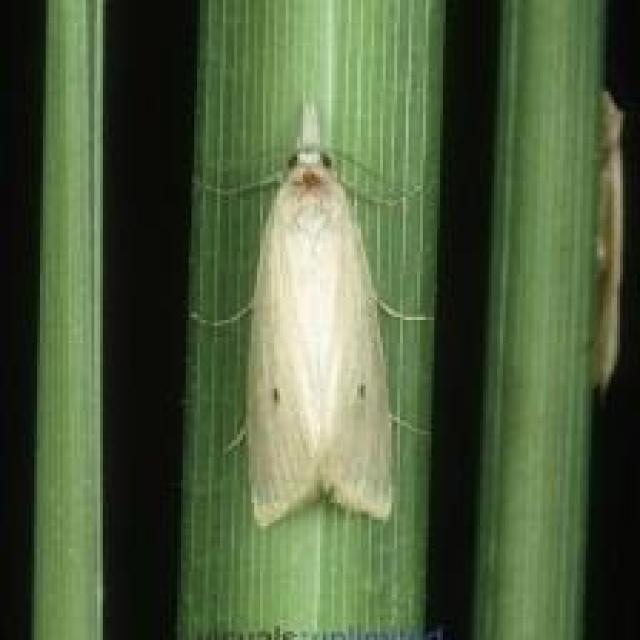yellow-stem-borer: (180, 75, 449, 532)
